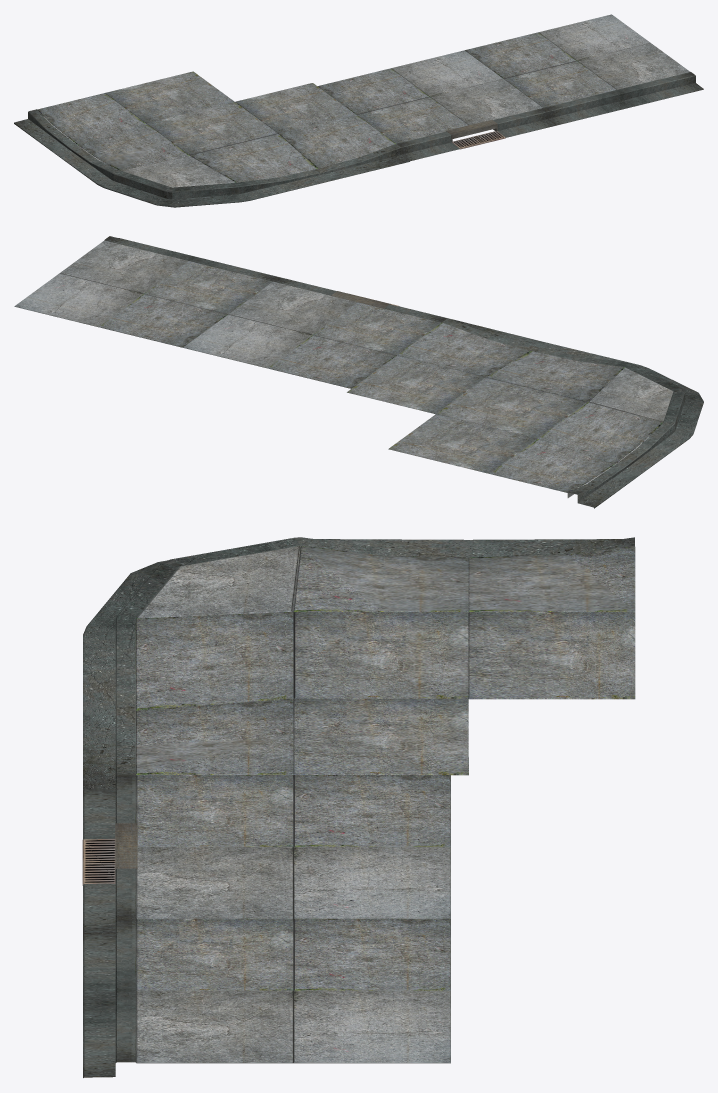
The model's file is sidewalk.gltf.
3 renders of one model, top to bottom at view 1: azimuth 30°, elevation 25°; view 2: azimuth 150°, elevation 25°; view 3: azimuth 270°, elevation 25°, orthographic. The views are drawn at different scales.
Parts seen in each view (by area): view 1: pCube15, pCube7, pCube16, polySurface2, pCube2, pCube17, pCube12; view 2: pCube15, pCube7, pCube16, polySurface2, pCube2, pCube17; view 3: pCube15, pCube7, pCube16, polySurface2, pCube2, pCube17, pCube12.
Part boxes in pixels (x1,y1,x2,y2): pCube15: [37, 71, 395, 187]; pCube7: [465, 14, 689, 107]; pCube16: [317, 50, 542, 143]; polySurface2: [14, 109, 409, 207]; pCube2: [543, 72, 703, 125]; pCube17: [396, 108, 556, 161]; pCube12: [446, 119, 505, 149]; pCube15: [347, 322, 673, 492]; pCube7: [14, 240, 272, 347]; pCube16: [183, 281, 441, 388]; polySurface2: [442, 318, 703, 508]; pCube2: [104, 236, 287, 281]; pCube17: [273, 277, 456, 322]; pCube15: [136, 546, 635, 775]; pCube7: [136, 918, 450, 1063]; pCube16: [136, 775, 450, 918]; polySurface2: [83, 537, 634, 790]; pCube2: [83, 918, 136, 1077]; pCube17: [83, 774, 136, 934]; pCube12: [82, 823, 137, 885].
Size of the model in its own units: 47.44 by 0.7437 by 20.56.
